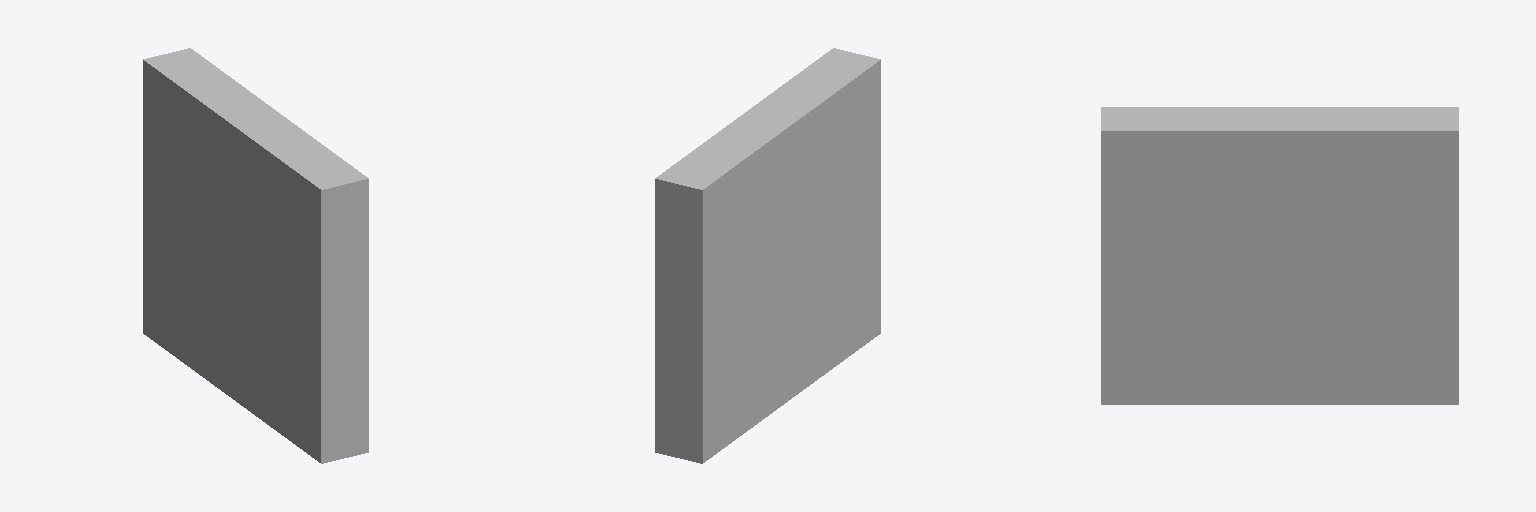
The model's file is Ghost Ship Flag.obj.
3 views of the same model, side by side, from view 1: azimuth 30°, elevation 25°; view 2: azimuth 150°, elevation 25°; view 3: azimuth 270°, elevation 25° (orthographic).
Visible parts, largest first — view 1: Flag; view 2: Flag; view 3: Flag.
Boxes of the visible parts, <box> form: Flag: <box>143,48,368,463</box>; Flag: <box>655,48,880,463</box>; Flag: <box>1101,107,1458,404</box>.
Size of the model in its own units: 0.2 by 1.1 by 1.3.